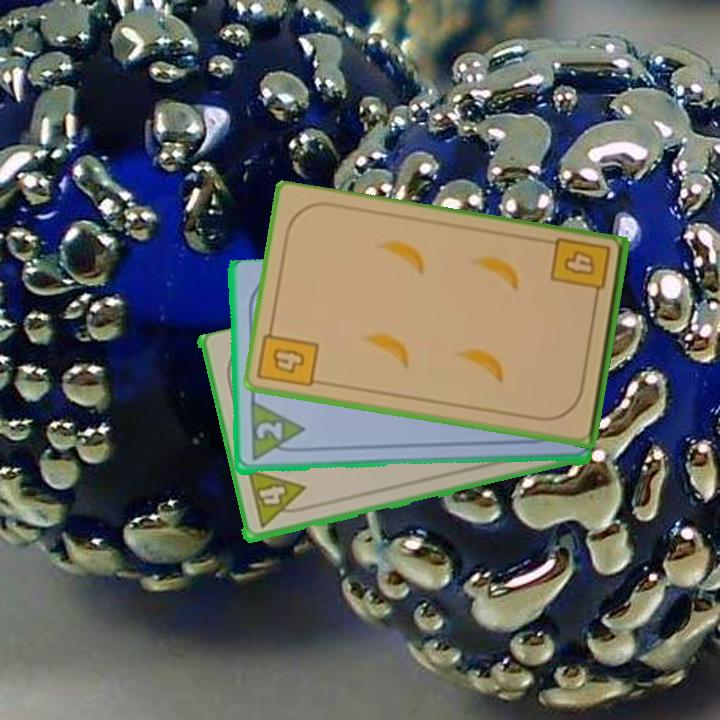2p: (246, 400, 307, 464)
4b: (547, 235, 614, 307), (256, 321, 323, 391)
4p: (244, 467, 311, 532)
